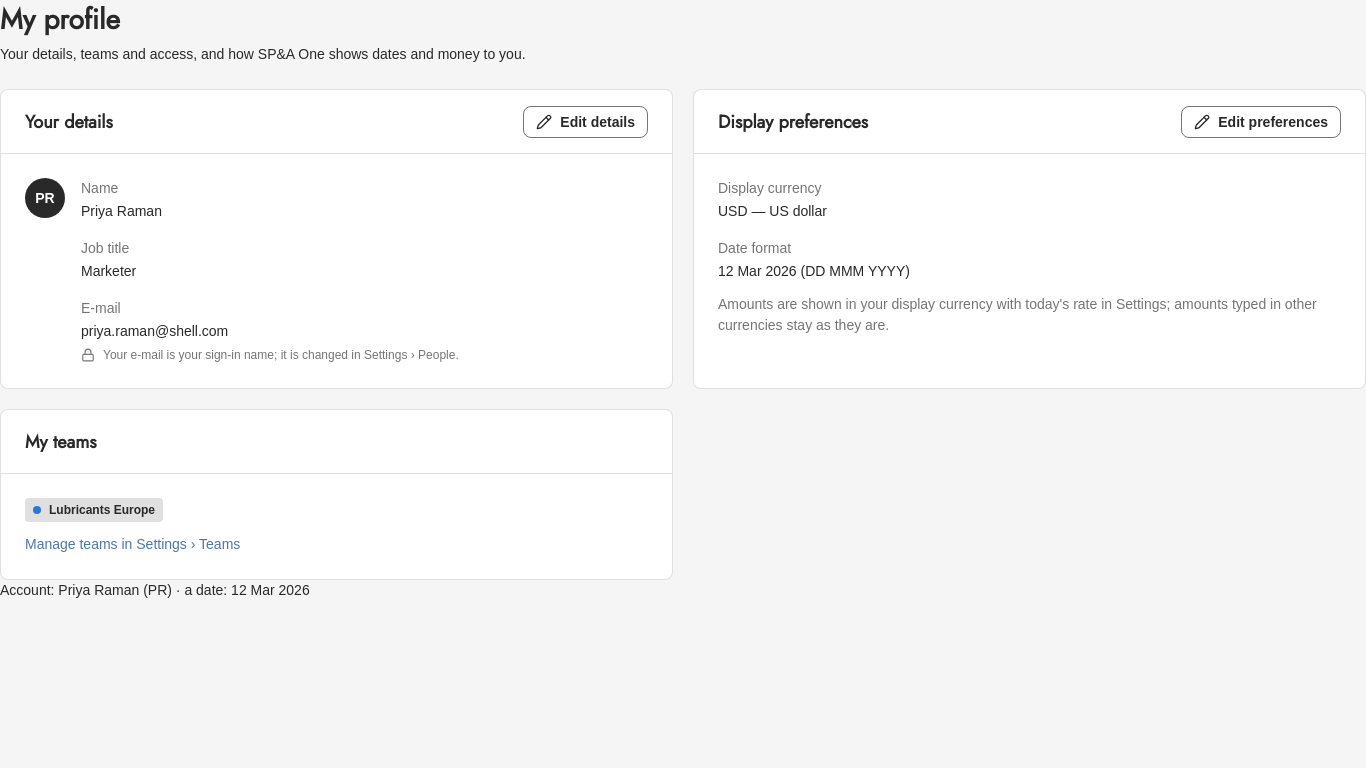
Test: ProfilePage (feature 003, US4): Edit your details › shows "Enter a name" at the field and in the summary when the name is empty (US4-2, SC-007)
Click the button "Edit details".
click(586, 122)  # box top-left (523, 106), bottom-right (648, 138)
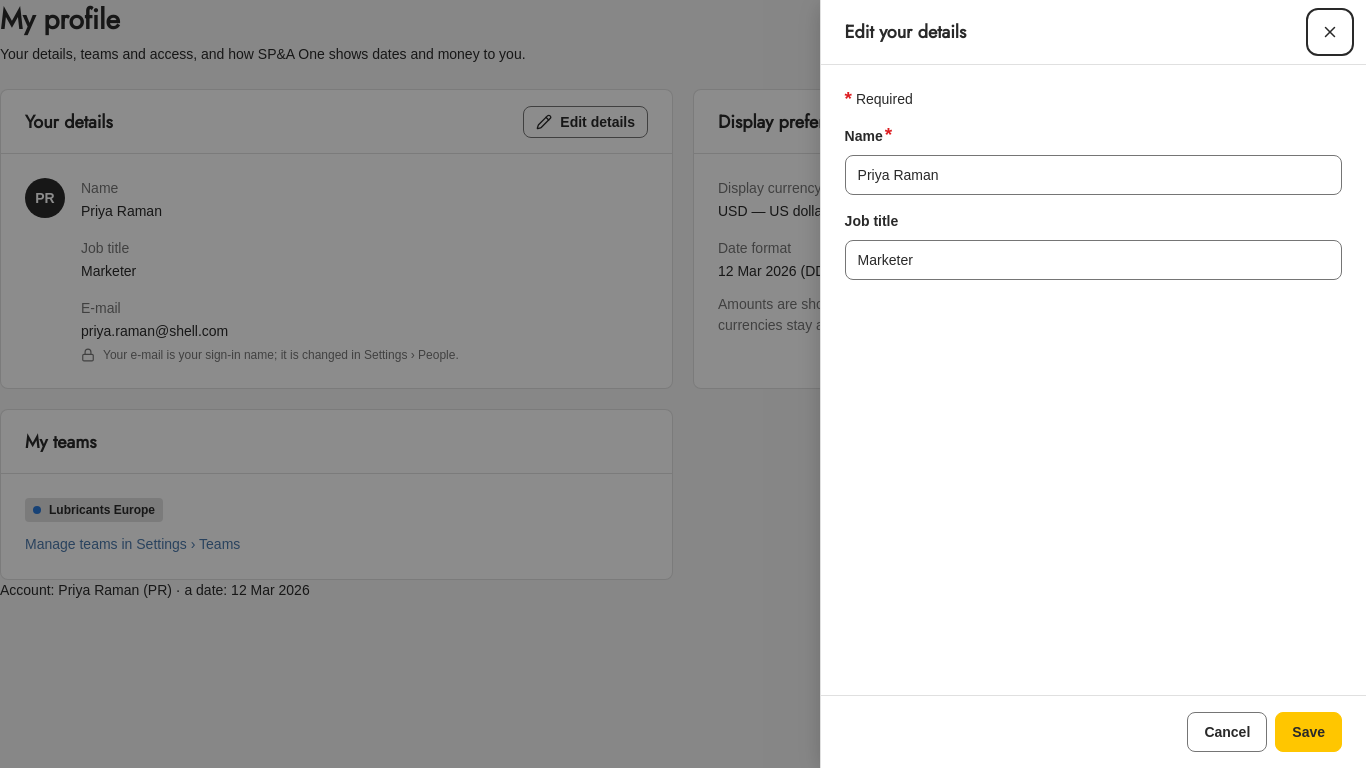
Clear the field labelled "Name" at [1093, 175], box top-left (845, 155), bottom-right (1342, 195)
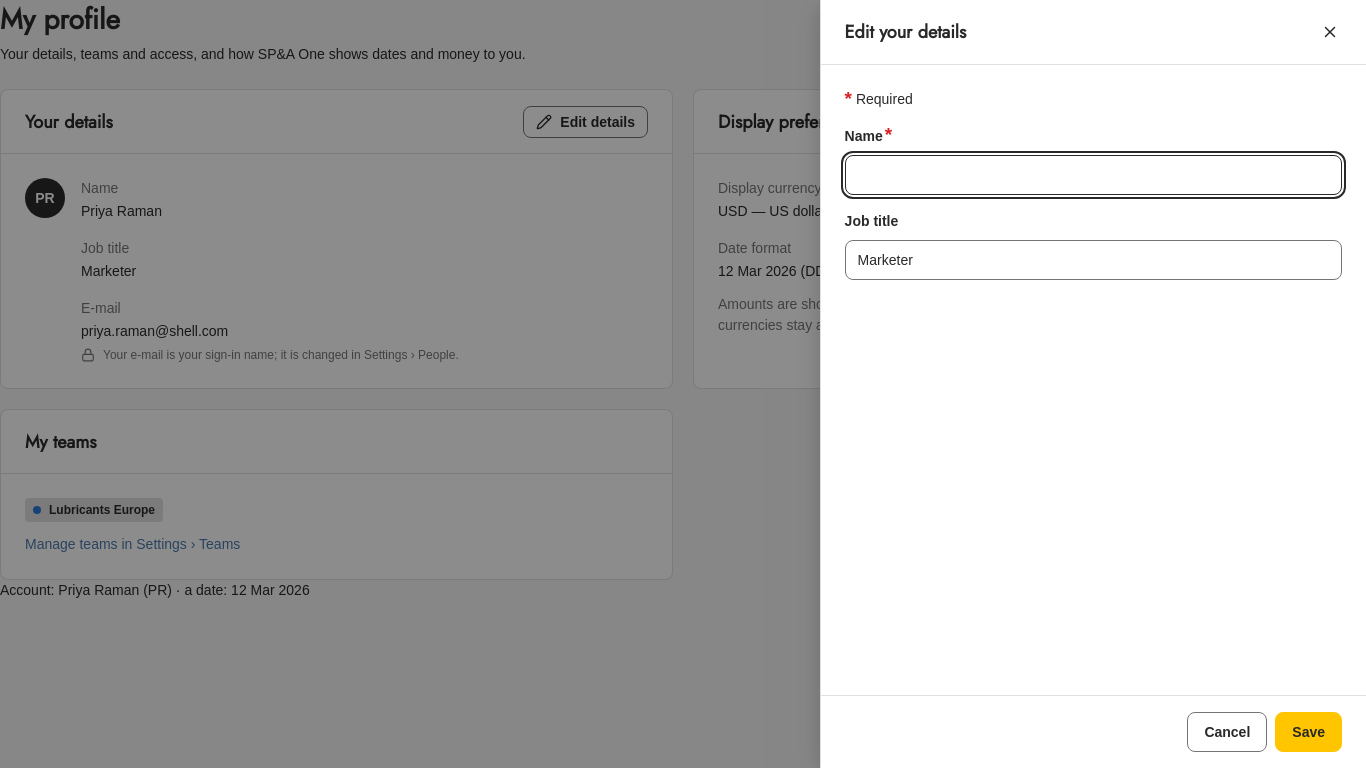
Click the button "Save".
click(1309, 732)  # box top-left (1275, 712), bottom-right (1342, 752)
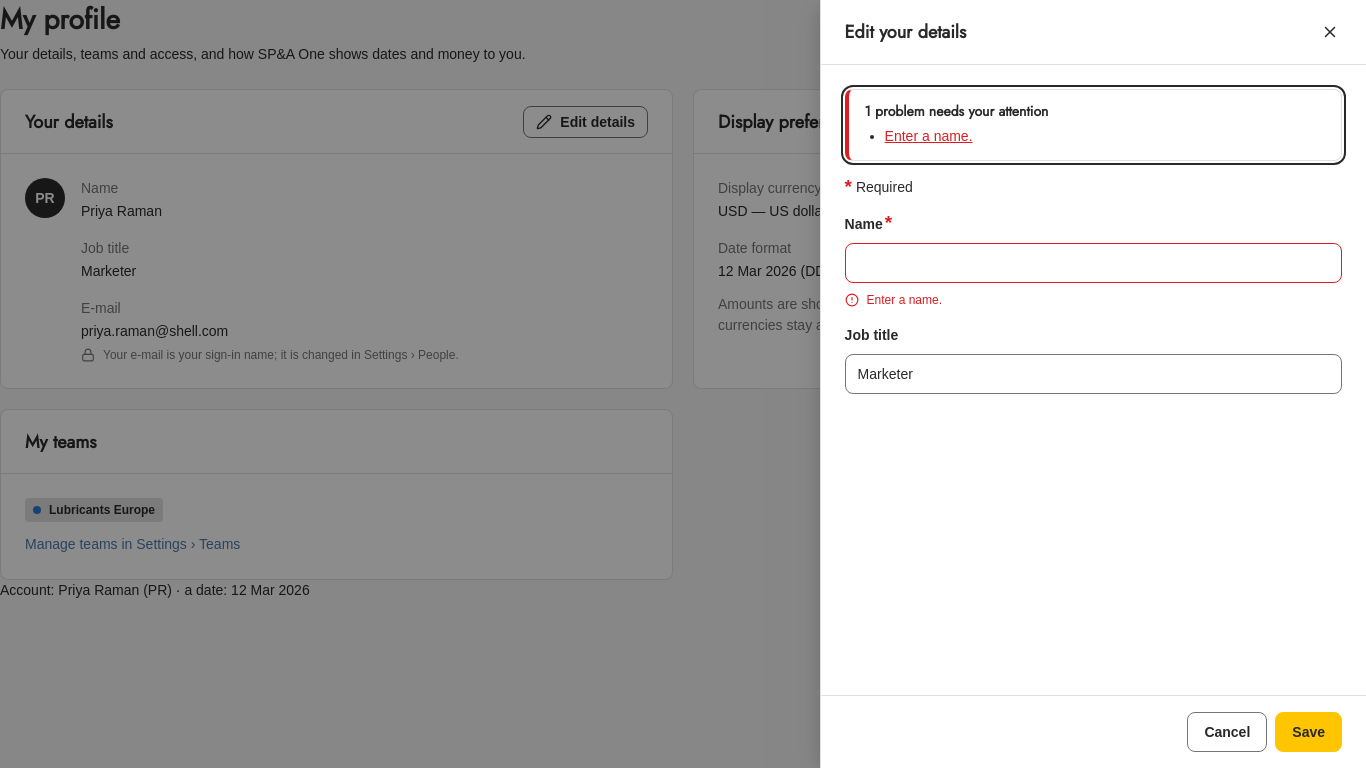
Expected: the text "Account: Priya Raman (PR) · a date: 12 Mar 2026" is shown, top-left (0, 582), bottom-right (310, 598)
Expected: the number of links "Enter a name." is 2, top-left (885, 124), bottom-right (972, 148); top-left (845, 293), bottom-right (942, 307)
